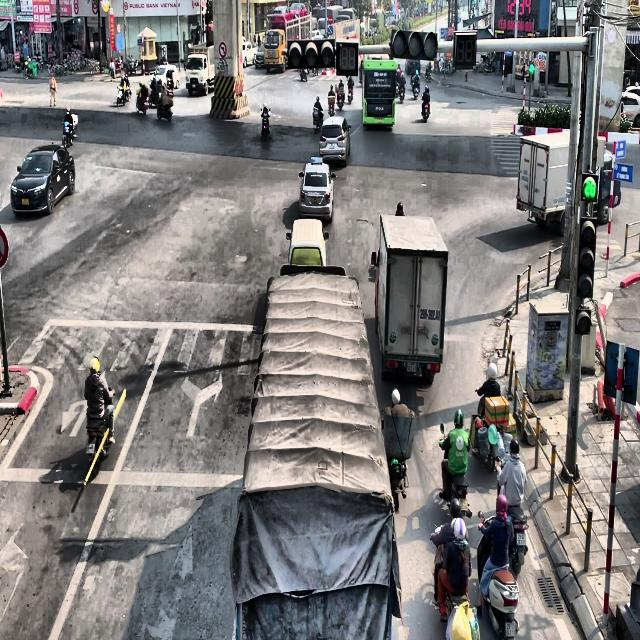lisence_plate: (504, 618, 518, 638), (403, 359, 420, 375), (86, 437, 96, 455), (516, 532, 526, 547), (311, 197, 319, 205), (329, 143, 335, 150), (377, 119, 382, 122)
